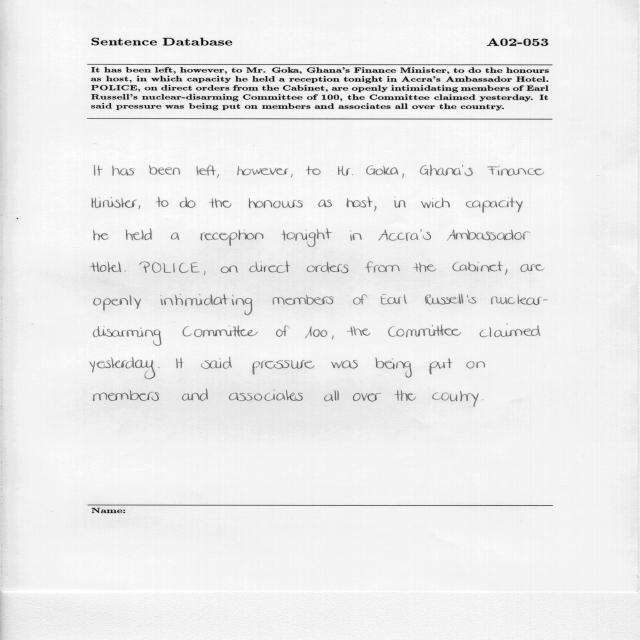word: (161, 294, 253, 315), (90, 357, 155, 379), (94, 326, 162, 346), (200, 229, 264, 246), (388, 325, 461, 338), (253, 360, 315, 375), (282, 229, 333, 247), (447, 230, 530, 241), (466, 197, 523, 213), (183, 326, 258, 337), (229, 390, 303, 401), (480, 324, 540, 337), (375, 357, 412, 378), (432, 391, 479, 407), (139, 261, 200, 273), (93, 390, 159, 401), (94, 295, 141, 310), (379, 229, 431, 241), (273, 295, 333, 305), (420, 165, 473, 176), (487, 166, 544, 176), (425, 294, 476, 305), (453, 261, 503, 272), (249, 198, 303, 208), (491, 296, 548, 305), (92, 197, 137, 208), (250, 261, 291, 273), (307, 262, 348, 273), (365, 261, 400, 273), (429, 358, 453, 375), (201, 357, 232, 369), (366, 165, 398, 175), (421, 197, 450, 208), (182, 389, 208, 401), (149, 165, 180, 175), (91, 262, 121, 272), (125, 229, 152, 240), (197, 165, 219, 178), (347, 197, 373, 208), (381, 294, 407, 305), (306, 327, 328, 339), (252, 168, 289, 175), (331, 360, 358, 369), (112, 165, 134, 176), (394, 390, 416, 401), (413, 262, 436, 272), (347, 326, 370, 336), (353, 393, 381, 401), (209, 198, 231, 208), (520, 264, 544, 272), (276, 325, 290, 337), (180, 197, 195, 208), (324, 390, 339, 401), (338, 166, 353, 176), (220, 265, 238, 273), (94, 231, 108, 241), (353, 295, 367, 305), (306, 166, 321, 175), (466, 361, 485, 368), (350, 230, 362, 241), (156, 197, 169, 207), (237, 166, 251, 175), (318, 200, 332, 208), (94, 165, 103, 176), (394, 200, 406, 208), (176, 358, 184, 368), (171, 232, 179, 240), (374, 206, 377, 212), (505, 269, 507, 275), (402, 174, 404, 179), (139, 205, 141, 210), (291, 174, 293, 178), (332, 336, 334, 340), (204, 271, 205, 276), (124, 271, 126, 272), (158, 367, 160, 368), (482, 400, 484, 400)
